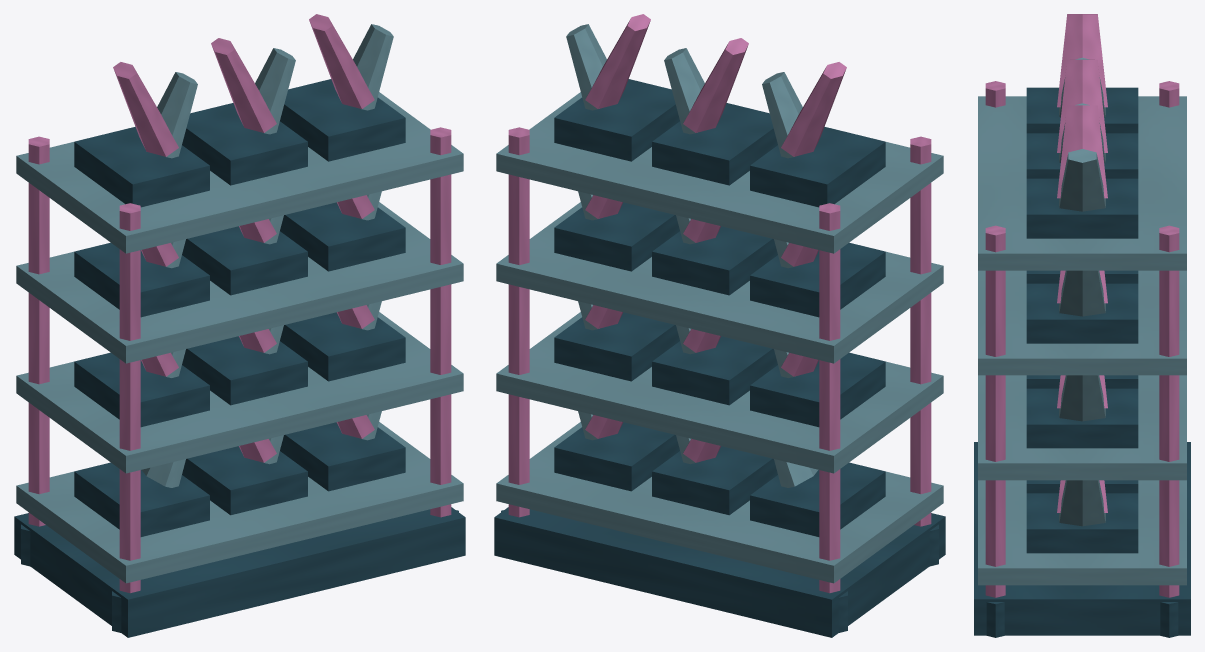
File: atlas100-s062-a02.lod1.glb
3 views of the same model, side by side, from view 1: azimuth 30°, elevation 25°; view 2: azimuth 150°, elevation 25°; view 3: azimuth 270°, elevation 25° (orthographic). The views are drawn at different scales.
Visible parts, largest first — view 1: atlas100-s062-a02:part-000, atlas100-s062-a02:part-041, atlas100-s062-a02:part-011, atlas100-s062-a02:part-031, atlas100-s062-a02:part-021, atlas100-s062-a02:part-042, atlas100-s062-a02:part-005, atlas100-s062-a02:part-009, atlas100-s062-a02:part-045, atlas100-s062-a02:part-048, atlas100-s062-a02:part-003, atlas100-s062-a02:part-028 (+15 smaller); view 2: atlas100-s062-a02:part-000, atlas100-s062-a02:part-041, atlas100-s062-a02:part-011, atlas100-s062-a02:part-031, atlas100-s062-a02:part-021, atlas100-s062-a02:part-042, atlas100-s062-a02:part-003, atlas100-s062-a02:part-007, atlas100-s062-a02:part-045, atlas100-s062-a02:part-048, atlas100-s062-a02:part-005, atlas100-s062-a02:part-028 (+15 smaller); view 3: atlas100-s062-a02:part-041, atlas100-s062-a02:part-011, atlas100-s062-a02:part-021, atlas100-s062-a02:part-031, atlas100-s062-a02:part-000, atlas100-s062-a02:part-007, atlas100-s062-a02:part-009, atlas100-s062-a02:part-018, atlas100-s062-a02:part-038, atlas100-s062-a02:part-028, atlas100-s062-a02:part-048, atlas100-s062-a02:part-042 (+15 smaller).
Boxes of the visible parts, x1,y1,x2,y2 form: atlas100-s062-a02:part-000: (14, 507, 465, 637); atlas100-s062-a02:part-041: (16, 92, 463, 253); atlas100-s062-a02:part-011: (16, 422, 463, 583); atlas100-s062-a02:part-031: (16, 202, 463, 363); atlas100-s062-a02:part-021: (16, 312, 463, 473); atlas100-s062-a02:part-042: (74, 126, 209, 207); atlas100-s062-a02:part-005: (119, 203, 140, 593); atlas100-s062-a02:part-009: (430, 127, 451, 517); atlas100-s062-a02:part-045: (182, 103, 307, 185); atlas100-s062-a02:part-048: (280, 79, 405, 161); atlas100-s062-a02:part-003: (28, 136, 49, 526); atlas100-s062-a02:part-028: (280, 312, 405, 381); atlas100-s062-a02:part-000: (494, 507, 945, 637); atlas100-s062-a02:part-041: (496, 92, 943, 253); atlas100-s062-a02:part-011: (496, 422, 943, 583); atlas100-s062-a02:part-031: (496, 202, 943, 363); atlas100-s062-a02:part-021: (496, 312, 943, 473); atlas100-s062-a02:part-042: (750, 126, 885, 207); atlas100-s062-a02:part-003: (819, 203, 840, 593); atlas100-s062-a02:part-007: (508, 127, 529, 517); atlas100-s062-a02:part-045: (652, 103, 777, 185); atlas100-s062-a02:part-048: (554, 79, 679, 161); atlas100-s062-a02:part-005: (910, 136, 931, 526); atlas100-s062-a02:part-028: (554, 312, 679, 381); atlas100-s062-a02:part-041: (978, 96, 1186, 270); atlas100-s062-a02:part-011: (978, 480, 1186, 585); atlas100-s062-a02:part-021: (978, 375, 1186, 480); atlas100-s062-a02:part-031: (978, 270, 1186, 375); atlas100-s062-a02:part-000: (974, 442, 1190, 635); atlas100-s062-a02:part-007: (1159, 225, 1179, 597); atlas100-s062-a02:part-009: (985, 225, 1005, 597); atlas100-s062-a02:part-018: (1026, 493, 1138, 553); atlas100-s062-a02:part-038: (1026, 283, 1138, 343); atlas100-s062-a02:part-028: (1026, 388, 1138, 448); atlas100-s062-a02:part-048: (1026, 178, 1138, 238); atlas100-s062-a02:part-042: (1026, 87, 1138, 133).
Bounding box in the file's own units: 2.47 × 3.51 × 1.4.
3 materials, 3 textured.
